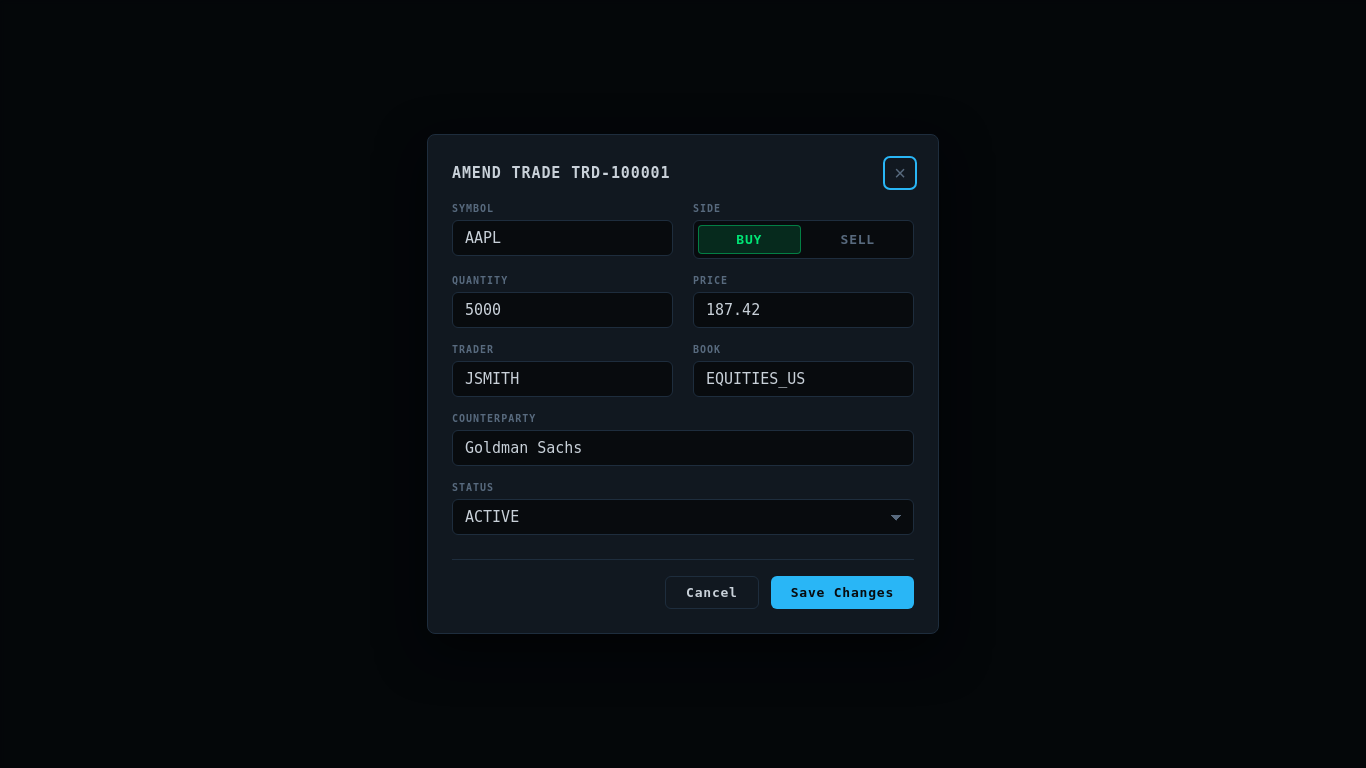
Test: AmendTradeModal › enforces validation: a non-positive price shows the error and does not submit
Replace the text in the number field labelled "Price" with "0". click: (804, 310)
box: [693,292,914,328]
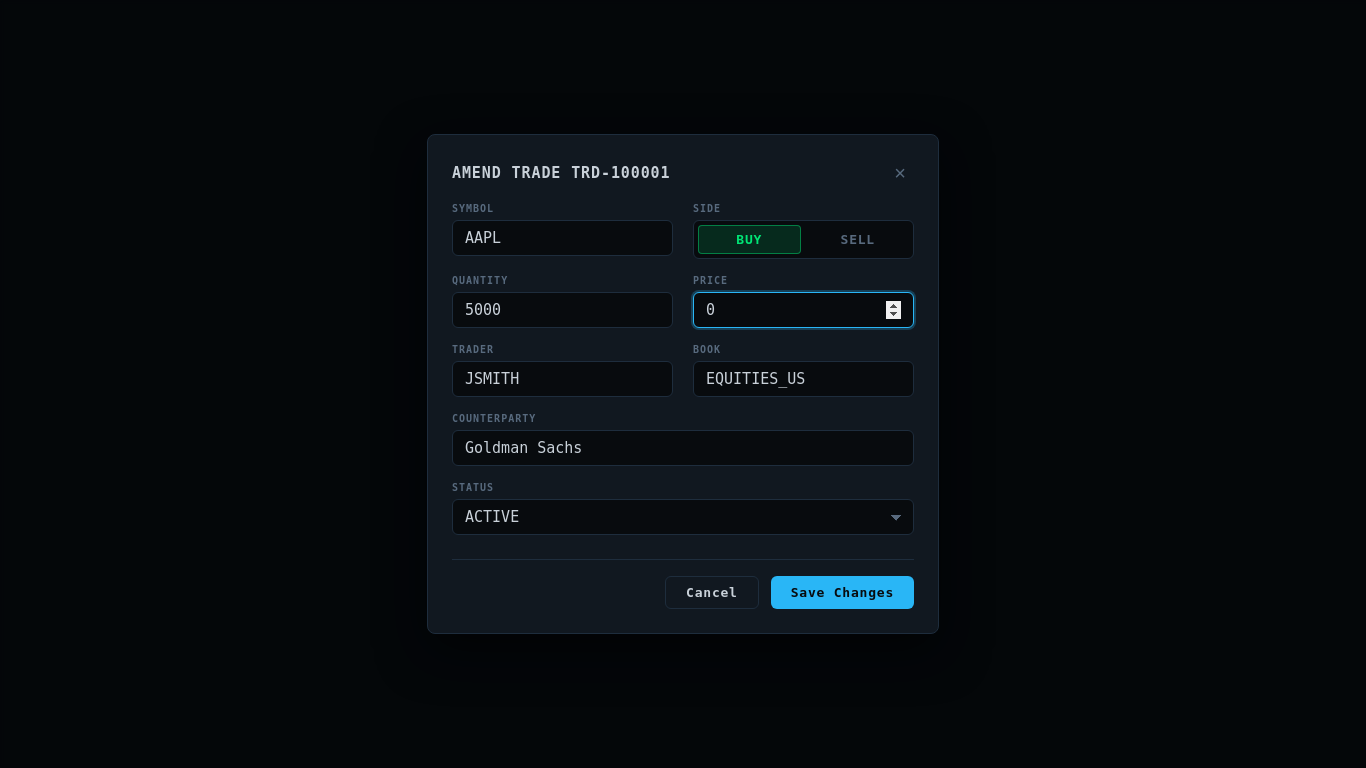
Click the button "Save Changes". click: click(842, 593)
box: [771,576,914,609]
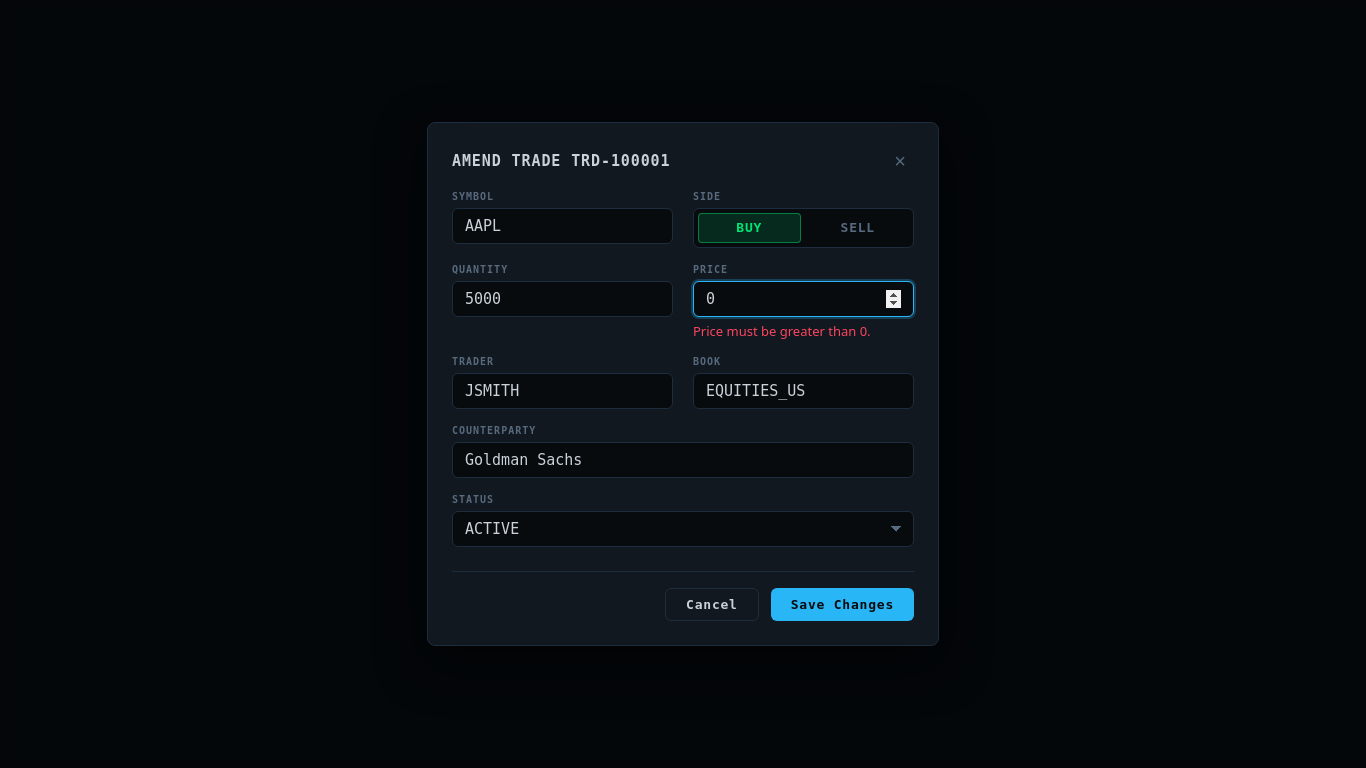
expect the text "Price must be greater than 0." is shown: met, box [693,322,871,340]
